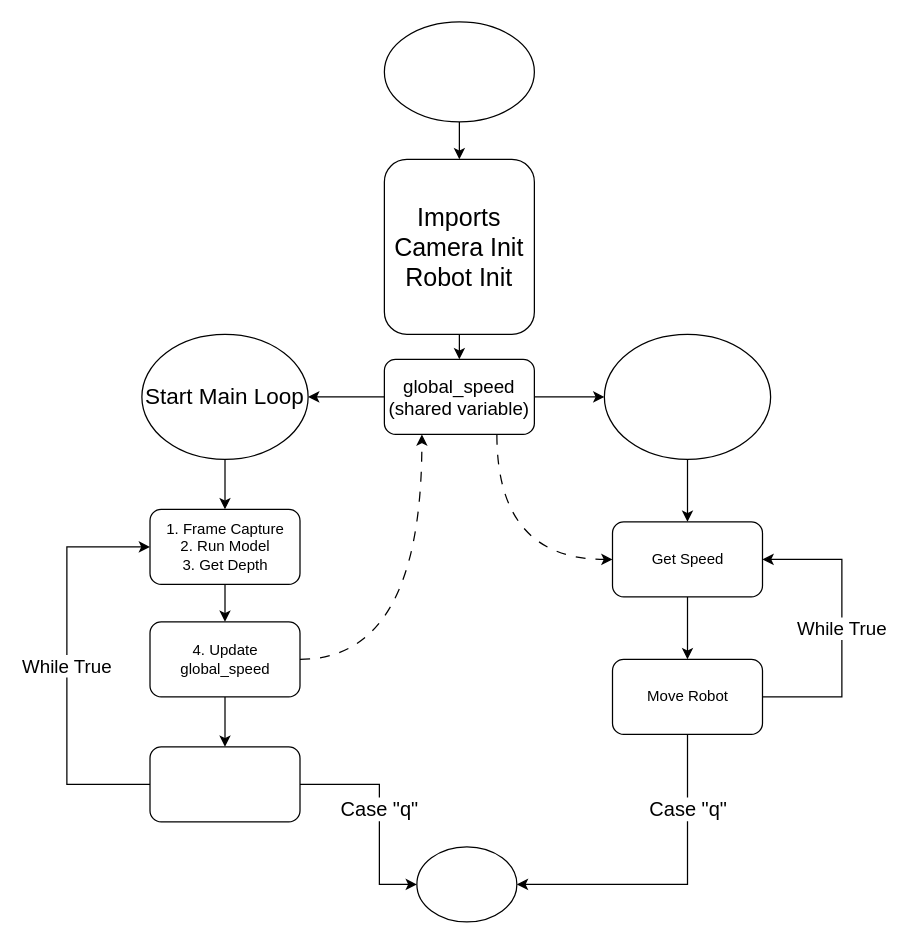
This 908x944 diagram has some shape labels left out. The centre of each missing label's shape, as x and y in pixels:
5. Process Frame 6. Output Frame: point 224,784
End: point 466,884
Start: point 458,71
Start Robot Control Thread: point 687,396
